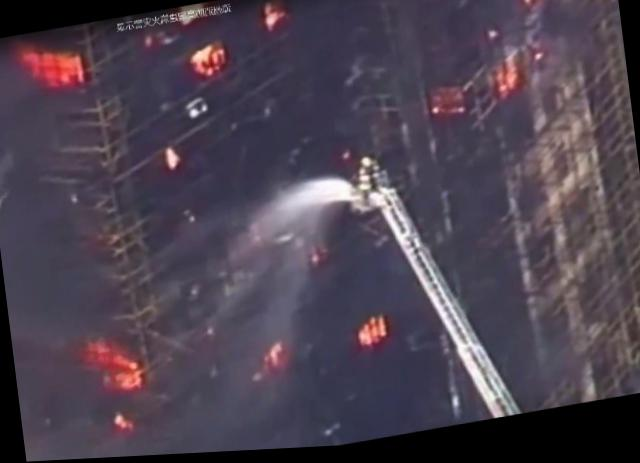fire: (92, 336, 144, 395), (27, 47, 84, 92), (187, 43, 230, 81), (355, 317, 391, 354), (496, 57, 524, 99)
